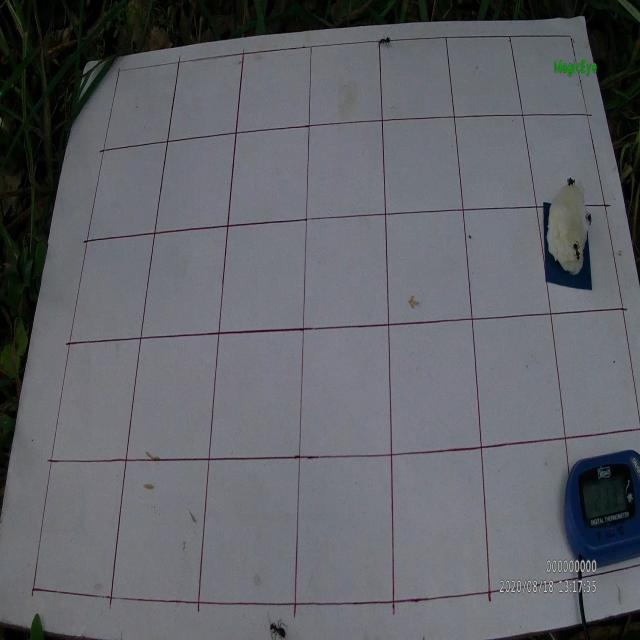Ant: (266, 610, 290, 640), (568, 237, 582, 263), (376, 34, 392, 51), (566, 175, 576, 188)
